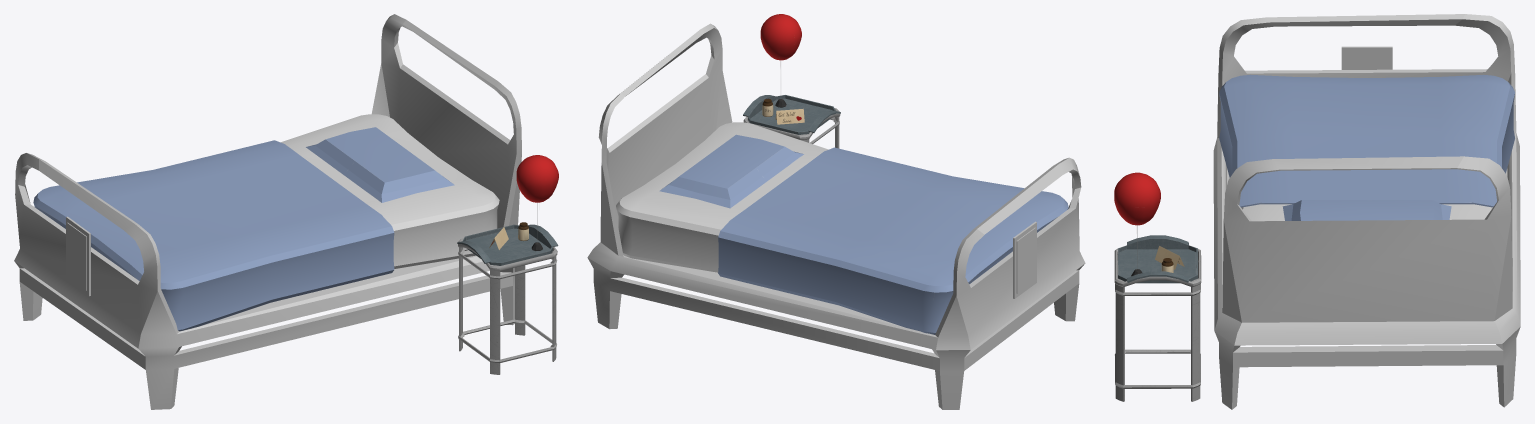
3 views of the same model, side by side, from view 1: azimuth 30°, elevation 25°; view 2: azimuth 150°, elevation 25°; view 3: azimuth 270°, elevation 25° (orthographic). The views are drawn at different scales.
Visible parts, largest first — view 1: Mattress, BedFrame, BedsideStand; view 2: Mattress, BedFrame, BedsideStand; view 3: BedFrame, Mattress, BedsideStand.
Part boxes in pixels (<box>): Mattress: <box>33,114,499,331</box>; BedFrame: <box>14,14,521,409</box>; BedsideStand: <box>457,155,558,374</box>; Mattress: <box>616,122,1068,334</box>; BedFrame: <box>587,23,1085,409</box>; BedsideStand: <box>743,14,840,148</box>; BedFrame: <box>1213,14,1520,409</box>; Mattress: <box>1219,74,1514,221</box>; BedsideStand: <box>1114,172,1201,401</box>.
Bounding box in the file's own units: 340 × 184 × 273.
